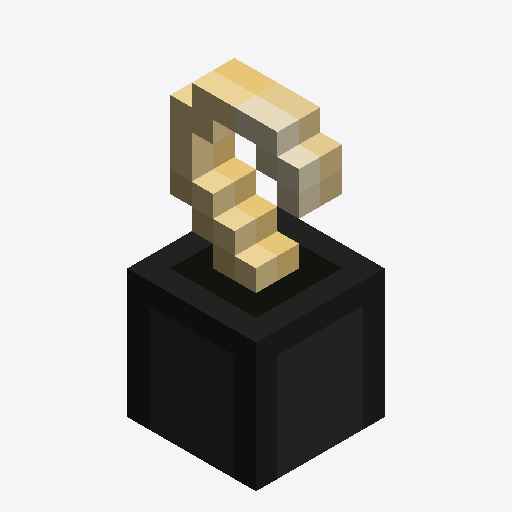
A Minecraft block model of 9 cuboids, rendered isometrically (azimuth 45°, elevation 35.3°) with the resource pack's own textures.
Parts seen in each view (by area): element 1, element 4, element 2, element 7, element 5, element 3, element 8, element 6, element 9.
Part boxes in pixels (x1,y1,x2,y2): element 1: (127,206,384,490); element 4: (192,58,319,156); element 2: (213,231,298,292); element 7: (256,132,341,193); element 5: (170,157,255,218); element 3: (192,194,276,255); element 8: (170,120,234,181); element 6: (170,83,233,143); element 9: (277,169,341,218).
Size of the model in its own units: 6 by 13 by 6.